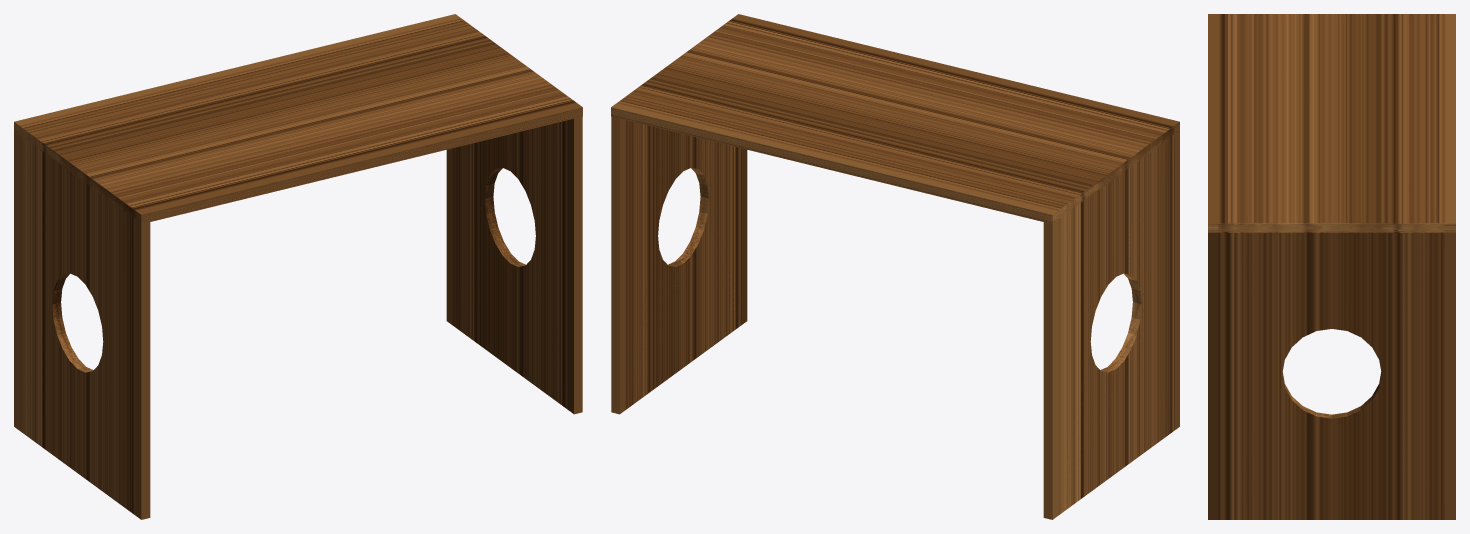
Rendered from mesa.gltf.
3 views of the same model, side by side, from view 1: azimuth 30°, elevation 25°; view 2: azimuth 150°, elevation 25°; view 3: azimuth 270°, elevation 25° (orthographic). The views are drawn at different scales.
Parts seen in each view (by area): view 1: MESA; view 2: MESA; view 3: MESA.
Part boxes in pixels (x1,y1,x2,y2): MESA: [14, 14, 582, 519]; MESA: [611, 14, 1179, 519]; MESA: [1208, 14, 1455, 519].
Bounding box in the file's own units: 1 × 0.66 × 0.5.
1 material, 1 textured.
